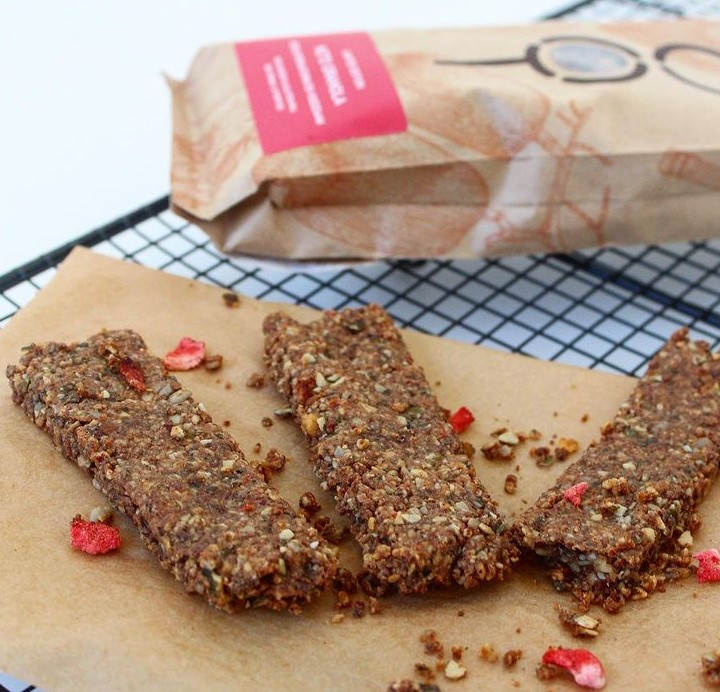KetoGranola: (232, 29, 416, 157)
